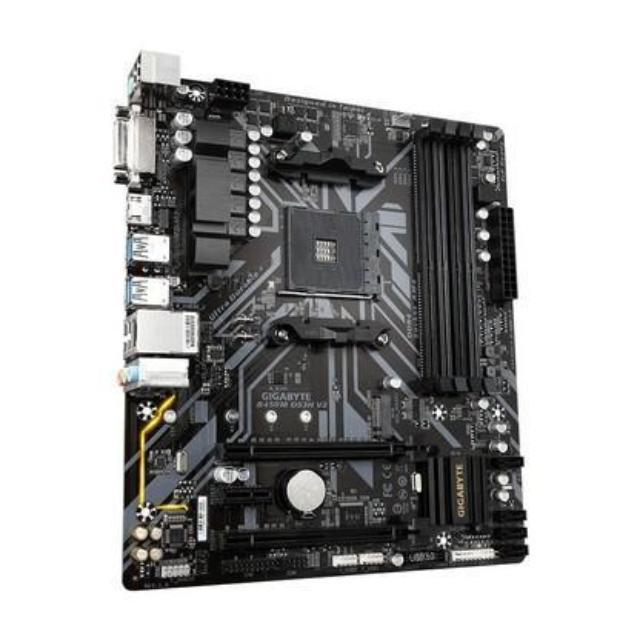Mainboard: (111, 51, 537, 600)
